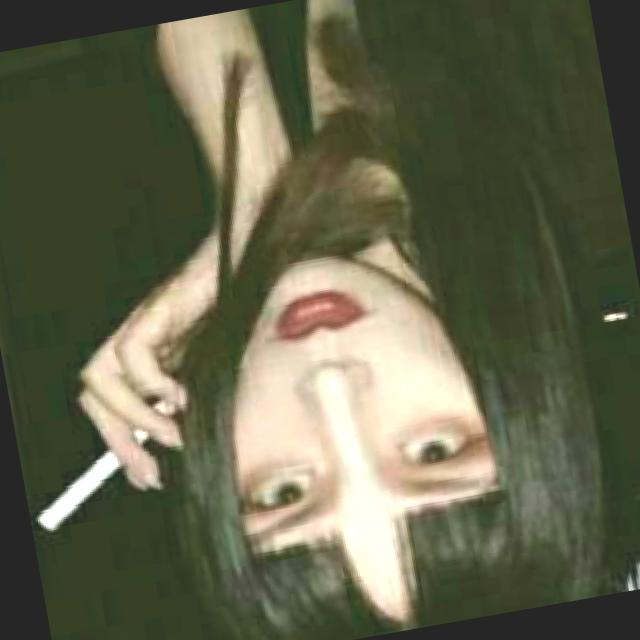cigarette: (15, 380, 206, 542)
